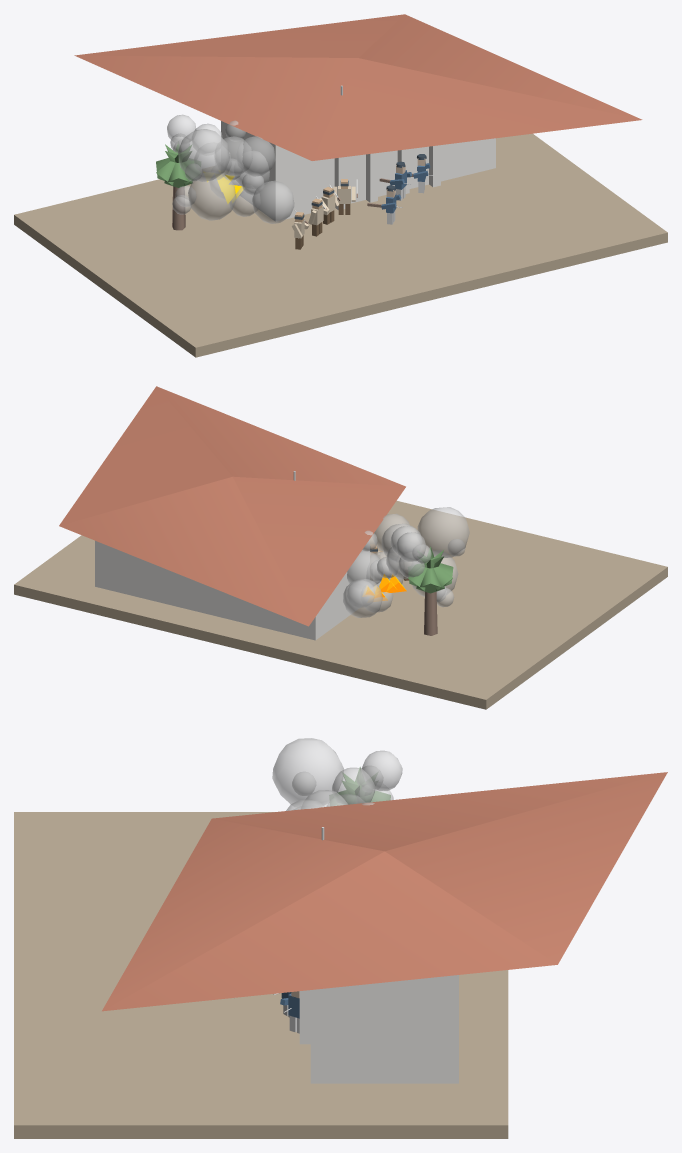
Rendered from 17.banten_1888_historical_scene.glb.
The picture shows the model from 3 angles, top to bottom: view 1: azimuth 30°, elevation 25°; view 2: azimuth 150°, elevation 25°; view 3: azimuth 270°, elevation 25°; orthographic projection. The views are drawn at different scales.
Bounding box in the file's own units: 30.46 × 7.7 × 26.46.
